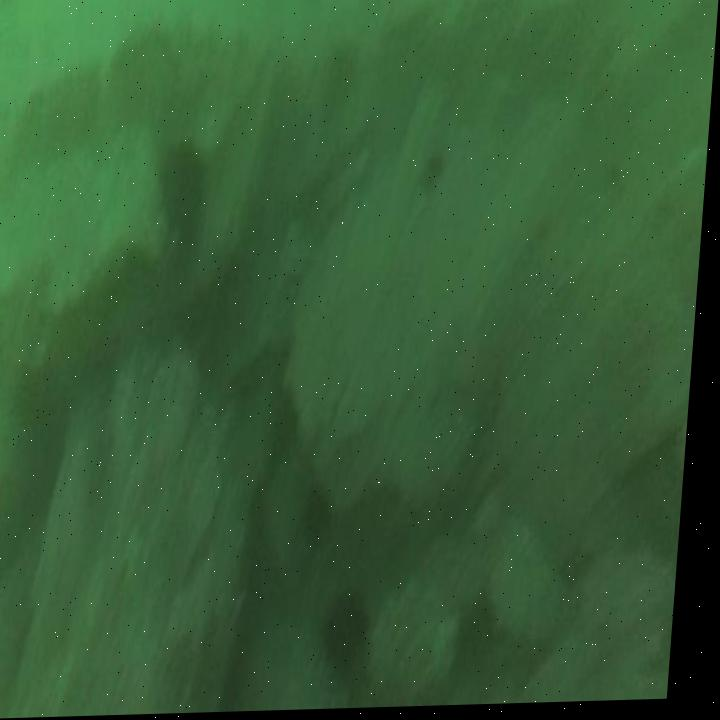echinus: (156, 148, 211, 236), (333, 600, 379, 683), (308, 491, 342, 552)
